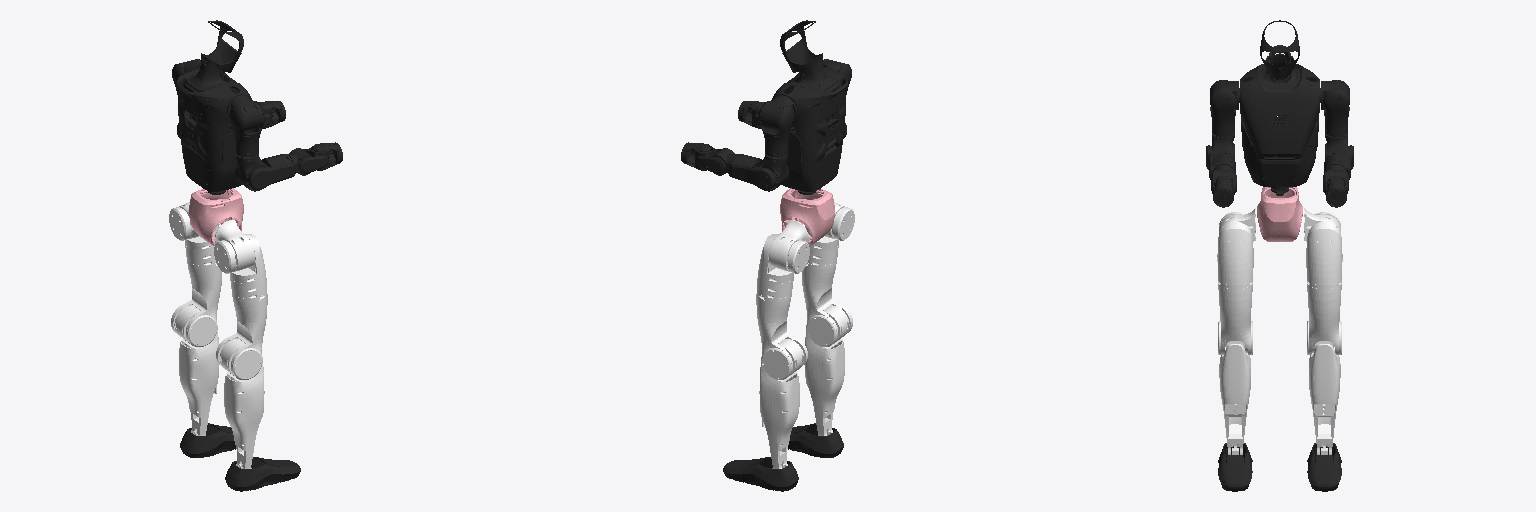
--- Render facts (derived) ---
The picture shows the robot from 3 angles, left to right: view 1: azimuth 30°, elevation 25°; view 2: azimuth 150°, elevation 25°; view 3: azimuth 270°, elevation 25°; orthographic projection.
Model O1 with 31 links and 30 joints (29 revolute, 1 fixed), rooted at pelvis, posed every joint at zero.
Links seen in each view (by area): view 1: torso_link, right_knee_link, left_knee_link, right_hip_yaw_link, left_hip_yaw_link, pelvis, right_ankle_roll_link, head_link, right_hip_pitch_link, left_ankle_roll_link, right_hip_roll_link, right_elbow_link (+6 smaller); view 2: torso_link, left_knee_link, right_knee_link, left_hip_yaw_link, right_hip_yaw_link, pelvis, left_ankle_roll_link, head_link, left_hip_pitch_link, right_ankle_roll_link, left_hip_roll_link, left_elbow_link (+6 smaller); view 3: torso_link, left_knee_link, right_knee_link, left_hip_yaw_link, right_hip_yaw_link, pelvis, left_hip_roll_link, right_hip_roll_link, left_ankle_roll_link, right_ankle_roll_link, head_link, left_shoulder_roll_link (+1 smaller).
Link boxes in pixels (left/top/right/bottom): torso_link: left=176, top=65, right=252, bottom=191; right_knee_link: left=220, top=339, right=264, bottom=468; left_knee_link: left=174, top=305, right=218, bottom=435; right_hip_yaw_link: left=216, top=292, right=267, bottom=379; left_hip_yaw_link: left=171, top=261, right=221, bottom=346; pelvis: left=189, top=188, right=243, bottom=245; right_ankle_roll_link: left=225, top=457, right=300, bottom=491; head_link: left=185, top=20, right=243, bottom=92; right_hip_pitch_link: left=214, top=220, right=254, bottom=273; left_ankle_roll_link: left=180, top=423, right=235, bottom=457; right_hip_roll_link: left=230, top=234, right=266, bottom=298; right_elbow_link: left=248, top=154, right=294, bottom=189; torso_link: left=771, top=65, right=847, bottom=191; left_knee_link: left=759, top=339, right=803, bottom=468; right_knee_link: left=805, top=305, right=849, bottom=435; left_hip_yaw_link: left=756, top=292, right=807, bottom=379; right_hip_yaw_link: left=802, top=261, right=852, bottom=346; pelvis: left=780, top=188, right=834, bottom=245; left_ankle_roll_link: left=723, top=457, right=798, bottom=491; head_link: left=780, top=20, right=838, bottom=91; left_hip_pitch_link: left=769, top=220, right=809, bottom=273; right_ankle_roll_link: left=788, top=423, right=843, bottom=457; left_hip_roll_link: left=757, top=234, right=793, bottom=298; left_elbow_link: left=729, top=154, right=775, bottom=189; torso_link: left=1240, top=64, right=1319, bottom=186; left_knee_link: left=1309, top=341, right=1340, bottom=454; right_knee_link: left=1219, top=341, right=1250, bottom=454; left_hip_yaw_link: left=1307, top=281, right=1341, bottom=354; right_hip_yaw_link: left=1218, top=281, right=1252, bottom=354; pelvis: left=1257, top=187, right=1302, bottom=241; left_hip_roll_link: left=1306, top=222, right=1342, bottom=284; right_hip_roll_link: left=1217, top=222, right=1253, bottom=284; left_ankle_roll_link: left=1307, top=443, right=1341, bottom=491; right_ankle_roll_link: left=1218, top=443, right=1252, bottom=491; head_link: left=1260, top=20, right=1299, bottom=82; left_shoulder_roll_link: left=1323, top=80, right=1349, bottom=136.
Size in the robot's own frame: 0.3943 by 0.4005 by 1.32 metres.
31 mesh visuals loaded from 31 distinct referenced files (31 binary STL).

The robot description file, URDF, robot "O1":
<?xml version="1.0" encoding="utf-8"?>
<!-- This URDF was automatically created by SolidWorks to URDF Exporter! Originally created by Stephen Brawner ([email redacted]) 
     Commit Version: 1.6.0-4-g7f85cfe  Build Version: 1.6.7995.38578
     For more information, please see http://wiki.ros.org/sw_urdf_exporter -->
<robot
  name="O1">
  
   <mujoco>
    <compiler meshdir="./meshes" balanceinertia="true"  discardvisual="false"/>
  </mujoco>
<!-- ~/.mujoco/mujoco210/bin/compile  v1.urdf v1.xml -->
<!-- <link name="world"></link>
  <joint name="floating_base_joint" type="floating">
    <parent link="world"/>
    <child link="pelvis"/>
  </joint> -->

  <!-- pelvis -->
 <link
    name="pelvis">
    <inertial>
      <origin
        xyz="-0.00001599  -0.00036044 0.02683613"
        rpy="0 0 0" />
      <mass
        value="3.68" />
      <inertia
        ixx="0.01157851"
        ixy="-0.00000511"
        ixz="-0.00000380"
        iyy="0.00849704"
        iyz="0.00004674"
        izz="0.00729059" />
    </inertial>
    <visual>
      <origin
        xyz="0 0 0"
        rpy="0 0 0" />
      <geometry>
        <mesh
          filename="./meshes/pelvis_link.STL" />
      </geometry>
      <material
        name="">
        <color
          rgba="3 0.7529 0.7961 1" />
      </material>
    </visual>
    <collision>
      <origin
        xyz="0 0 0"
        rpy="0 0 0" />
      <geometry>
        <mesh
          filename="./meshes/pelvis_link.STL" />
      </geometry>
    </collision>
  </link>

<!-- left leg -->
 <link
    name="left_hip_pitch_link">
    <inertial>
      <origin
        xyz="-0.00600842 0.05098829 -0.02591919"
        rpy="0 0 0" />
      <mass
        value="1.38" />
      <inertia
        ixx="0.00173824"
        ixy="0.00002267"
        ixz="-0.00001402"
        iyy="0.00142228"
        iyz="-0.00014722"
        izz="0.00139086" />
    </inertial>
    <visual>
      <origin
        xyz="0 0 0"
        rpy="0 0 0" />
      <geometry>
        <mesh
          filename="./meshes/left_hip_pitch_link.STL" />
      </geometry>
      <material
        name="">
        <color
          rgba="1 1 1 1" />
      </material>
    </visual>
    <collision>
      <origin
        xyz="0 0 0"
        rpy="0 0 0" />
      <geometry>
        <mesh
          filename="./meshes/left_hip_pitch_link.STL" />
      </geometry>
    </collision>
  </link>
  <joint
    name="left_hip_pitch_joint"
    type="revolute">
    <origin
      xyz="0 0.06525 0"
      rpy="0 0 0" />
    <parent
      link="pelvis" />
    <child
      link="left_hip_pitch_link" />
    <axis
      xyz="0 1 0" />
    <limit
      lower="-2.63845125"
      upper="2.77206943"
      effort="88"
      velocity="30.05456971934" />
  </joint>
 <link
    name="left_hip_roll_link">
    <inertial>
      <origin
        xyz="0.02637647 0.00002176 -0.07847643"
        rpy="0 0 0" />
      <mass
        value="1.55653092" />
      <inertia
        ixx="0.00292860"
        ixy="0.00000033"
        ixz="0.00024683"
        iyy="0.00283358"
        iyz="0.00000743"
        izz="0.00170113" />
    </inertial>
    <visual>
      <origin
        xyz="0 0 0"
        rpy="0 0 0" />
      <geometry>
        <mesh
          filename="./meshes/left_hip_roll_link.STL" />
      </geometry>
      <material
        name="">
        <color
          rgba="1 1 1 1" />
      </material>
    </visual>
    <collision>
      <origin
        xyz="0 0 0"
        rpy="0 0 0" />
      <geometry>
        <mesh
          filename="./meshes/left_hip_roll_link.STL" />
      </geometry>
    </collision>
  </link>
  <joint
    name="left_hip_roll_joint"
    type="revolute">
    <origin
      xyz="0 0.05494 -0.028701"
      rpy="0 -0.066809 0" />
    <parent
      link="left_hip_pitch_link" />
    <child
      link="left_hip_roll_link" />
    <axis
      xyz="1 0 0" />
    <limit
      lower="-0.3"
      upper="2.89396741"
      effort="88"
      velocity="30.05456971934" />
  </joint>
  <link
    name="left_hip_yaw_link">
    <inertial>
      <origin
        xyz="-0.01190082 0.00519796 -0.09749077"
        rpy="0 0 0" />
      <mass
        value="0.68357228" />
      <inertia
        ixx="0.00446989"
        ixy="-0.00008504"
        ixz="0.00072745"
        iyy="0.00448501"
        iyz="-0.00031734"
        izz="0.00131788" />
    </inertial>
    <visual>
      <origin
        xyz="0 0 0"
        rpy="0 0 0" />
      <geometry>
        <mesh
          filename="./meshes/left_hip_yaw_link.STL" />
      </geometry>
      <material
        name="">
        <color
          rgba="1 1 1 1" />
      </material>
    </visual>
    <collision>
      <origin
        xyz="0 0 0"
        rpy="0 0 0" />
      <geometry>
        <mesh
          filename="./meshes/left_hip_yaw_link.STL" />
      </geometry>
    </collision>
  </link>
  <joint
    name="left_hip_yaw_joint"
    type="revolute">
    <origin
      xyz="0.023639 0 -0.11812"
      rpy="0 0 0" />
    <parent
      link="left_hip_roll_link" />
    <child
      link="left_hip_yaw_link" />
    <axis
      xyz="0 0 1" />
    <limit
      lower="-2.7925268"
      upper="2.7925268"
      effort="88"
      velocity="30.05456971934" />
  </joint>
  <link
    name="left_knee_link">
    <inertial>
      <origin
        xyz="0.01140738 0.00239698 -0.08461528"
        rpy="0 0 0" />
        <mass
        value="3.66174273" />
      <inertia
        ixx="0.03242620"
        ixy="-0.00010957"
        ixz="-0.00313455"
        iyy="0.03286848"
        iyz="0.00068319"
        izz="0.00334442" />
    </inertial>
    <visual>
      <origin
        xyz="0 0 0"
        rpy="0 0 0" />
      <geometry>
        <mesh
          filename="./meshes/left_knee_link.STL" />
      </geometry>
      <material
        name="">
        <color
          rgba="1 1 1 1" />
      </material>
    </visual>
    <collision>
      <origin
        xyz="0 0 0"
        rpy="0 0 0" />
      <geometry>
        <mesh
          filename="./meshes/left_knee_link.STL" />
      </geometry>
    </collision>
  </link>
  <joint
    name="left_knee_joint"
    type="revolute">
    <origin
      xyz="-0.044387 0 -0.19197"
      rpy="0 0.066809 0" />
    <parent
      link="left_hip_yaw_link" />
    <child
      link="left_knee_link" />
    <axis
      xyz="0 1 0" />
    <limit
      lower="-0.13895627"
      upper="2.7931969"
      effort="140"
      velocity="17.48819910498" />
  </joint>
  <link
    name="left_ankle_pitch_link">
    <inertial>
      <origin
        xyz="-0.00054559 0.00050204 -0.00344178"
        rpy="0 0 0" />
      <mass
        value="0.083335" />
      <inertia
        ixx="0.01"
        ixy="0"
        ixz="-0.00000090"
        iyy="0.01"
        iyz="0"
        izz="0.01" />
    </inertial>
    <visual>
      <origin
        xyz="0 0 0"
        rpy="0 0 0" />
      <geometry>
        <mesh
          filename="./meshes/left_ankle_pitch_link.STL" />
      </geometry>
      <material
        name="">
        <color
          rgba="1 1 1 1" />
      </material>
    </visual>
    <collision>
      <origin
        xyz="0 0 0"
        rpy="0 0 0" />
      <geometry>
        <mesh
          filename="./meshes/left_ankle_pitch_link.STL" />
      </geometry>
    </collision>
  </link>
  <joint
    name="left_ankle_pitch_joint"
    type="revolute">
    <origin
      xyz="0.012516 0 -0.33638"
      rpy="0 0 0" />
    <parent
      link="left_knee_link" />
    <child
      link="left_ankle_pitch_link" />
    <axis
      xyz="0 1 0" />
    <limit
      lower="-0.99261433"
      upper="0.39993928"
      effort="54"
      velocity="26.17993877991" />
  </joint>
  <link
    name="left_ankle_roll_link">
    <inertial>
      <origin
        xyz="0.00775718 0.00006323 -0.01342855"
        rpy="0 0 0" />
           <mass
        value="0.67969443" />
      <inertia
        ixx="0.01"
        ixy="-0.00000001"
        ixz="-0.00009342"
        iyy="0.01"
        iyz="-0.00000008"
        izz="0.01" />
    </inertial>
    <visual>
      <origin
        xyz="0 0 0"
        rpy="0 0 0" />
      <geometry>
        <mesh
          filename="./meshes/left_ankle_roll_link.STL" />
      </geometry>
      <material
        name="">
        <color rgba="0.2 0.2 0.2 1" />
      </material>
    </visual>
    <!-- <collision>
      <origin
        xyz="0 0 0"
        rpy="0 0 0" />
      <geometry>
        <mesh
          filename="./meshes/left_ankle_roll_link.STL" />
      </geometry>
    </collision> -->
    <collision>
      <origin xyz="-0.075 0.035 -0.025" rpy="0 0 0"/>
      <geometry>
        <sphere radius="0.005"/>
      </geometry>
    </collision>
    <collision>
      <origin xyz="-0.075 -0.035 -0.025" rpy="0 0 0"/>
      <geometry>
        <sphere radius="0.005"/>
      </geometry>
    </collision>
    <collision>
      <origin xyz="0.13 0.04 -0.025" rpy="0 0 0"/>
      <geometry>
        <sphere radius="0.005"/>
      </geometry>
    </collision>
    <collision>
      <origin xyz="0.13 -0.04 -0.025" rpy="0 0 0"/>
      <geometry>
        <sphere radius="0.005"/>
      </geometry>
    </collision>
  </link>
  <joint
    name="left_ankle_roll_joint"
    type="revolute">
    <origin
      xyz="0.0361 0.00050204 -0.01"
      rpy="0 0 0" />
    <parent
      link="left_ankle_pitch_link" />
    <child
      link="left_ankle_roll_link" />
    <axis
      xyz="1 0 0" />
    <limit
      lower="-0.24198415"
      upper="0.24198415"
      effort="54"
      velocity="26.17993877991" />
  </joint>



<!-- leg -->


 <link
    name="right_hip_pitch_link">
    <inertial>
      <origin
        xyz="-0.00600865 -0.05098805 -0.02591902"
        rpy="0 0 0" />
      <mass
        value="1.38353491" />
      <inertia
        ixx="0.00173819"
        ixy="-0.00002264"
        ixz="-0.00001401"
        iyy="0.00142223"
        iyz="0.00014720"
        izz="0.00139081" />
    </inertial>
    <visual>
      <origin
        xyz="0 0 0"
        rpy="0 0 0" />
      <geometry>
        <mesh
          filename="./meshes/right_hip_pitch_link.STL" />
      </geometry>
      <material
        name="">
        <color
          rgba="1 1 1 1" />
      </material>
    </visual>
    <collision>
      <origin
        xyz="0 0 0"
        rpy="0 0 0" />
      <geometry>
        <mesh
          filename="./meshes/right_hip_pitch_link.STL" />
      </geometry>
    </collision>
  </link>
  <joint
    name="right_hip_pitch_joint"
    type="revolute">
    <origin
      xyz="0 -0.06525 0"
      rpy="0 0 0" />
    <parent
      link="pelvis" />
    <child
      link="right_hip_pitch_link" />
    <axis
      xyz="0 1 0" />
    <limit
      lower="-2.63845125"
      upper="2.77206943"
      effort="88"
      velocity="30.05456971934" />
  </joint>

 <link
    name="right_hip_roll_link">
    <inertial>
      <origin
        xyz="0.02637618 -0.00002235 -0.07847854"
        rpy="0 0 0" />
        <mass
        value="1.55649690" />
      <inertia
        ixx="0.00292821"
        ixy="-0.00000025"
        ixz="0.00024679"
        iyy="0.00283318"
        iyz="-0.00000756"
        izz="0.00170113" />
    </inertial>
    <visual>
      <origin
        xyz="0 0 0"
        rpy="0 0 0" />
      <geometry>
        <mesh
          filename="./meshes/right_hip_roll_link.STL" />
      </geometry>
      <material
        name="">
        <color
          rgba="1 1 1 1" />
      </material>
    </visual>
    <collision>
      <origin
        xyz="0 0 0"
        rpy="0 0 0" />
      <geometry>
        <mesh
          filename="./meshes/right_hip_roll_link.STL" />
      </geometry>
    </collision>
  </link>
  <joint
    name="right_hip_roll_joint"
    type="revolute">
    <origin
      xyz="0 -0.05494 -0.028701"
      rpy="0 -0.066809 0" />
    <parent
      link="right_hip_pitch_link" />
    <child
      link="right_hip_roll_link" />
    <axis
      xyz="1 0 0" />
    <limit
      lower="-2.89396741"
      upper="0.3"
      effort="88"
      velocity="30.05456971934" />
  </joint>

<link
    name="right_hip_yaw_link">
    <inertial>
      <origin
        xyz="-0.01189927 -0.00519873 -0.09749555"
        rpy="0 0 0" />
            <mass
        value="0.68354335" />
      <inertia
        ixx="0.00447037"
        ixy="0.00008487"
        ixz="0.00072736"
        iyy="0.00448507"
        iyz="0.00031722"
        izz="0.00131805" />
    </inertial>
    <visual>
      <origin
        xyz="0 0 0"
        rpy="0 0 0" />
      <geometry>
        <mesh
          filename="./meshes/right_hip_yaw_link.STL" />
      </geometry>
      <material
        name="">
        <color
          rgba="1 1 1 1" />
      </material>
    </visual>
    <collision>
      <origin
        xyz="0 0 0"
        rpy="0 0 0" />
      <geometry>
        <mesh
          filename="./meshes/right_hip_yaw_link.STL" />
      </geometry>
    </collision>
  </link>
  <joint
    name="right_hip_yaw_joint"
    type="revolute">
    <origin
      xyz="0.023639 0 -0.11812"
      rpy="0 0 0" />
    <parent
      link="right_hip_roll_link" />
    <child
      link="right_hip_yaw_link" />
    <axis
      xyz="0 0 1" />
    <limit
      lower="-2.7925268"
      upper="2.7925268"
      effort="88"
      velocity="30.05456971934" />
  </joint>
  <link
    name="right_knee_link">
    <inertial>
      <origin
        xyz="0.01140751 -0.00239511 -0.08461610"
        rpy="0 0 0" />
      <mass
        value="3.66178340" />
      <inertia
        ixx="0.03242632"
        ixy="0.00010971"
        ixz="-0.00313462"
        iyy="0.03286859"
        iyz="-0.00068371"
        izz="0.00334453" />
    </inertial>
    <visual>
      <origin
        xyz="0 0 0"
        rpy="0 0 0" />
      <geometry>
        <mesh
          filename="./meshes/right_knee_link.STL" />
      </geometry>
      <material
        name="">
        <color
          rgba="1 1 1 1" />
      </material>
    </visual>
    <collision>
      <origin
        xyz="0 0 0"
        rpy="0 0 0" />
      <geometry>
        <mesh
          filename="./meshes/right_knee_link.STL" />
      </geometry>
    </collision>
  </link>
  <joint
    name="right_knee_joint"
    type="revolute">
    <origin
      xyz="-0.044387 0 -0.19197"
      rpy="0 0.066809 0" />
    <parent
      link="right_hip_yaw_link" />
    <child
      link="right_knee_link" />
    <axis
      xyz="0 1 0" />
    <limit
      lower="-0.13895627"
      upper="2.7931969"
      effort="140"
      velocity="17.48819910498" />
  </joint>
  <link
    name="right_ankle_pitch_link">
    <inertial>
      <origin
        xyz="-0.00054559 -0.00050204 -0.00344178"
        rpy="0 0 0" />
       <mass
        value="0.083335" />
      <inertia
        ixx="0.01"
        ixy="0"
        ixz="-0.00000090"
        iyy="0.01"
        iyz="0"
        izz="0.01" />
    </inertial>
    <visual>
      <origin
        xyz="0 0 0"
        rpy="0 0 0" />
      <geometry>
        <mesh
          filename="./meshes/right_ankle_pitch_link.STL" />
      </geometry>
      <material
        name="">
        <color
          rgba="1 1 1 1" />
      </material>
    </visual>
    <collision>
      <origin
        xyz="0 0 0"
        rpy="0 0 0" />
      <geometry>
        <mesh
          filename="./meshes/right_ankle_pitch_link.STL" />
      </geometry>
    </collision>
  </link>
  <joint
    name="right_ankle_pitch_joint"
    type="revolute">
    <origin
      xyz="0.012516 0 -0.33638"
      rpy="0 0 0" />
    <parent
      link="right_knee_link" />
    <child
      link="right_ankle_pitch_link" />
    <axis
      xyz="0 1 0" />
    <limit
      lower="-0.99261433"
      upper="0.39993928"
      effort="54"
      velocity="26.17993877991" />
  </joint>
  <link
    name="right_ankle_roll_link">
    <inertial>
      <origin
        xyz="0.00775238 -0.00004677 -0.01342861"
        rpy="0 0 0" />
      <mass
        value="0.67971021" />
      <inertia
        ixx="0.01"
        ixy="0.00000019"
        ixz="-0.00009343"
        iyy="0.01"
        iyz="0"
        izz="0.01" />
    </inertial>
    <visual>
      <origin
        xyz="0 0 0"
        rpy="0 0 0" />
      <geometry>
        <mesh
          filename="./meshes/right_ankle_roll_link.STL" />
      </geometry>
      <material
        name="">
        <color rgba="0.2 0.2 0.2 1" />
      </material>
    </visual>
    <!-- <collision>
      <origin
        xyz="0 0 0"
        rpy="0 0 0" />
      <geometry>
        <mesh
          filename="./meshes/right_ankle_roll_link.STL" />
      </geometry>
    </collision> -->
  <collision>
      <origin xyz="-0.075 0.035 -0.025" rpy="0 0 0"/>
      <geometry>
        <sphere radius="0.005"/>
      </geometry>
    </collision>
    <collision>
      <origin xyz="-0.075 -0.035 -0.025" rpy="0 0 0"/>
      <geometry>
        <sphere radius="0.005"/>
      </geometry>
    </collision>
    <collision>
      <origin xyz="0.13 0.04 -0.025" rpy="0 0 0"/>
      <geometry>
        <sphere radius="0.005"/>
      </geometry>
    </collision>
    <collision>
      <origin xyz="0.13 -0.04 -0.025" rpy="0 0 0"/>
      <geometry>
        <sphere radius="0.005"/>
      </geometry>
    </collision>
  </link>
  <joint
    name="right_ankle_roll_joint"
    type="revolute">
    <origin
      xyz="0.0361 -0.00050204 -0.01"
      rpy="0 0 0" />
    <parent
      link="right_ankle_pitch_link" />
    <child
      link="right_ankle_roll_link" />
    <axis
      xyz="1 0 0" />
    <limit
      lower="-0.24198415"
      upper="0.24198415"
      effort="54"
      velocity="26.17993877991" />
  </joint>

<!-- torso -->
 <link
    name="waist_yaw_link">
    <inertial>
      <origin
        xyz="0.00530711 0.00000475 0.02162691"
        rpy="0 0 0" />
      <mass
        value="0.14251209" />
      <inertia
        ixx="0.01"
        ixy="-0.00000003"
        ixz="0.00000498"
        iyy="0.01"
        iyz="0"
        izz="0.01" />
    </inertial>
    <visual>
      <origin
        xyz="0 0 0"
        rpy="0 0 0" />
      <geometry>
        <mesh
          filename="./meshes/waist_yaw_link.STL" />
      </geometry>
      <material
        name="">
        <color rgba="0.2 0.2 0.2 1" />
      </material>
    </visual>
    <!-- <collision>
      <origin
        xyz="0 0 0"
        rpy="0 0 0" />
      <geometry>
        <mesh
          filename="./meshes/waist_yaw_link.STL" />
      </geometry>
    </collision> -->
  </link>
  <joint
    name="waist_yaw_joint"
    type="revolute">
    <origin
      xyz="0 0 0.104"
      rpy="0 0 0" />
    <parent
      link="pelvis" />
    <child
      link="waist_yaw_link" />
    <axis
      xyz="0 0 1" />
    <limit
      lower="-2.6179938779914944"
      upper="2.6179938779914944"
      effort="88"
      velocity="30.05456971934" />
  </joint>


  


 <link name="waist_roll_link">
     <inertial>
       <origin xyz="0 0 0" rpy="0 0 0" />
       <mass value="0.054" />
       <inertia ixx="0.01" ixy="0" ixz="-0.00000004" iyy="0.01" iyz="0" izz="0.01" />
     </inertial>
     <visual>
       <origin xyz="0 0 0" rpy="0 0 0" />
       <geometry>
         <mesh filename="./meshes/waist_roll_link.STL" />
       </geometry>
       <material name="">
         <color rgba="0.2 0.2 0.2 1" />
       </material>
     </visual>
     <!-- <collision>
       <origin xyz="0 0 0" rpy="0 0 0" />
       <geometry>
          <mesh filename="./meshes/waist_roll_link.STL" />
       </geometry>
     </collision> -->
   </link>  

 <joint
    name="waist_roll_joint"
    type="revolute">
    <origin
      xyz="-0.0017722 0 0.047"
      rpy="0 0 0" />
    <parent
      link="waist_yaw_link" />
    <child
      link="waist_roll_link" />
    <axis
      xyz="1 0 0" />
    <limit
     lower="-0.5201081170943103"
      upper="0.5201081170943103"
      effort="54"
      velocity="26.17993877991" />
  </joint>


 <link
    name="torso_link">
    <inertial>
      <origin
        xyz="-0.01532388 0.00015102 0.13479563"
        rpy="0 0 0" />
      <mass
        value="7.45" />
      <inertia
        ixx="0.07109966"
        ixy="0.000003895"
        ixz="0.00060033"
        iyy="0.05644602"
        iyz="0.00015737"
        izz="0.03559097" />
    </inertial>
    <visual>
      <origin
        xyz="0 0 0"
        rpy="0 0 0" />
      <geometry>
        <mesh
          filename="./meshes/torso_link.STL" />
      </geometry>
      <material
        name="">
        <color rgba="0.2 0.2 0.2 1" />
      </material>
    </visual>
    <collision>
      <origin
        xyz="0 0 0"
        rpy="0 0 0" />
      <geometry>
        <mesh
          filename="./meshes/torso_link.STL" />
      </geometry>
    </collision>
  </link>
  <joint
    name="waist_pitch_joint"
    type="revolute">
    <origin
      xyz="0 0 0"
      rpy="0 0 0" />
    <parent
      link="waist_roll_link" />
    <child
      link="torso_link" />
    <axis
      xyz="0 1 0" />
    <limit
      lower="-0.5201081170943103"
      upper="0.5201081170943103"
      effort="54"
      velocity="26.17993877991" />
  </joint>




<link
    name="left_shoulder_pitch_link">
    <inertial>
      <origin
        xyz="0.00562426 0.04004362 -0.00401964"
        rpy="0 0 0" />
      <mass
        value="0.68647980" />
      <inertia
        ixx="0.01"
        ixy="0.00001446"
        ixz="0.00000273"
        iyy="0.01"
        iyz="-0.00001391"
        izz="0.01"/>
    </inertial>
    <visual>
      <origin
        xyz="0 0 0"
        rpy="0 0 0" />
      <geometry>
        <mesh
          filename="./meshes/left_shoulder_pitch_link.STL" />
      </geometry>
      <material
        name="">
        <color rgba="0.2 0.2 0.2 1" />
      </material>
    </visual>
     <collision>
     <origin
        xyz="0 0 0"
        rpy="0 0 0" />
      <geometry>
        <mesh
          filename="./meshes/left_shoulder_pitch_link.STL" />
      </geometry>
    </collision>
  </link>
  <joint
    name="left_shoulder_pitch_joint"
    type="revolute">
    <origin
     xyz="0.0076153 0.1088 0.2376523"
      rpy="0 0 0" />
    <parent
      link="torso_link" />
    <child
      link="left_shoulder_pitch_link" />
    <axis
      xyz="0 1 0" />
    <limit
      lower="-3.40339"
      upper="2.1816615649929116"
      effort="27"
      velocity="26.17993877991" />
  </joint>
  <link
    name="left_shoulder_roll_link">
    <inertial>
      <origin
        xyz="-0.00090881 0.00018475 -0.06656433"
        rpy="0 0 0" />
      <mass
        value="0.66210236" />
      <inertia
        ixx="0.01"
        ixy="-0.00000225"
        ixz="-0.00002828"
        iyy="0.01"
        iyz="0.00000458"
        izz="0.01" />
    </inertial>
    <visual>
      <origin
        xyz="0 0 0"
        rpy="0 0 0" />
      <geometry>
        <mesh
          filename="./meshes/left_shoulder_roll_link.STL" />
      </geometry>
      <material
        name="">
        <color rgba="0.2 0.2 0.2 1" />
      </material>
    </visual>
    <collision>
    <origin
        xyz="0 0 0"
        rpy="0 0 0" />
      <geometry>
        <mesh
          filename="./meshes/left_shoulder_roll_link.STL" />
      </geometry>
    </collision>
  </link>
  <joint
    name="left_shoulder_roll_joint"
    type="revolute">
    <origin
      xyz="0 0.044299 -0.005"
      rpy="0 0 0" />
    <parent
      link="left_shoulder_pitch_link" />
    <child
      link="left_shoulder_roll_link" />
    <axis
      xyz="1 0 0" />
    <limit
      lower="-1.5882496193148399"
      upper="2.705260340591211"
      effort="27"
      velocity="26.17993877991" />
  </joint>
  <link
    name="left_shoulder_yaw_link">
    <inertial>
      <origin
        xyz="0.01350876 0.00458835 -0.06069925"
        rpy="0 0 0" />
      <mass
        value="0.70907287" />
      <inertia
        ixx="0.01"
        ixy="-0.00000369"
        ixz="-0.00006218"
        iyy="0.01"
        iyz="-0.00001652"
        izz="0.01" />
    </inertial>
    <visual>
      <origin
        xyz="0 0 0"
        rpy="0 0 0" />
      <geometry>
        <mesh
          filename="./meshes/left_shoulder_yaw_link.STL" />
      </geometry>
      <material
        name="">
       <color rgba="0.2 0.2 0.2 1" />
      </material>
    </visual>
    <collision>
     <origin
        xyz="0 0 0"
        rpy="0 0 0" />
      <geometry>
        <mesh
          filename="./meshes/left_shoulder_yaw_link.STL" />
      </geometry>
    </collision>
  </link>
  <joint
    name="left_shoulder_yaw_joint"
    type="revolute">
    <origin
    xyz="0 0 -0.105584652258973"
      rpy="0 0 0" />
    <parent
      link="left_shoulder_roll_link" />
    <child
      link="left_shoulder_yaw_link" />
    <axis
      xyz="0 0 1" />
    <limit
      lower="-2.9321"
      upper="2.4609"
      effort="27"
      velocity="26.17993877991" />
  </joint>
  <link
    name="left_elbow_link">
    <inertial>
      <origin
        xyz="0.07538585 0.00456624 -0.00029857"
        rpy="0 0 0" />
      <mass
        value="0.70783525" />
      <inertia
        ixx="0.01"
        ixy="-0.00015453"
        ixz="0.00000224"
        iyy="0.01"
        iyz="0.00000099"
        izz="0.01" />
    </inertial>
    <visual>
      <origin
        xyz="0 0 0"
        rpy="0 0 0" />
      <geometry>
        <mesh
          filename="./meshes/left_elbow_link.STL" />
      </geometry>
      <material
        name="">
        <color rgba="0.2 0.2 0.2 1" />
      </material>
    </visual>
    <collision>
      <origin
        xyz="0 0 0"
        rpy="0 0 0" />
      <geometry>
        <mesh
          filename="./meshes/left_elbow_link.STL" />
      </geometry>
    </collision>
  </link>
  <joint
    name="left_elbow_joint"
    type="revolute">
    <origin
     xyz="0.0149287131009919 0 -0.0671946000854465"
      rpy="0 0 0" />
    <parent
      link="left_shoulder_yaw_link" />
    <child
      link="left_elbow_link" />
    <axis
      xyz="0 1 0" />
    <limit
      lower="-0.53"
      upper="2.0943951023931953"
      effort="27"
      velocity="26.17993877991" />
  </joint>

  <link
    name="left_wrist_roll_link">
    <inertial>
      <origin
        xyz="0.03581948 0.00209082 -0.00004229"
        rpy="0 0 0" />
      <mass
        value="0.34613195" />
      <inertia
        ixx="0.01"
        ixy="0.00000573"
        ixz="0"
        iyy="0.01"
        iyz="0.00000014"
        izz="0.01" />
    </inertial>
    <visual>
      <origin
        xyz="0 0 0"
        rpy="0 0 0" />
      <geometry>
        <mesh
          filename="./meshes/left_wrist_roll_link.STL" />
      </geometry>
      <material
        name="">
        <color rgba="0.2 0.2 0.2 1" />
      </material>
    </visual>
      <collision>
    <origin
        xyz="0 0 0"
        rpy="0 0 0" />
      <geometry>
        <mesh
          filename="./meshes/left_wrist_roll_link.STL" />
      </geometry>
    </collision>
  </link>
  <joint
    name="left_wrist_roll_joint"
    type="revolute">
    <origin
      xyz="0.110649509506429 -0.000743414724557998 0"
      rpy="0 0 0" />
    <parent
      link="left_elbow_link" />
    <child
      link="left_wrist_roll_link" />
    <axis
      xyz="1 0 0" />
    <limit
      lower="-2.1642082724729685"
      upper="2.1642082724729685"
      effort="27"
      velocity="26.17993877991" />
  </joint>
  <link
    name="left_wrist_pitch_link">
    <inertial>
      <origin
        xyz="0.04942738 0.00010190 -0.00213864"
        rpy="0 0 0" />
      <mass
        value="0.35832898" />
      <inertia
        ixx="0.01"
        ixy="-0.00000229"
        ixz="-0.00000574"
        iyy="0.01"
        iyz="0.00000027"
        izz="0.01" />
    </inertial>
    <visual>
      <origin
        xyz="0 0 0"
        rpy="0 0 0" />
      <geometry>
        <mesh
          filename="./meshes/left_wrist_pitch_link.STL" />
      </geometry>
      <material
        name="">
        <color rgba="0.2 0.2 0.2 1" />
      </material>
    </visual>
      <collision>
   <origin
        xyz="0 0 0"
        rpy="0 0 0" />
      <geometry>
        <mesh
          filename="./meshes/left_wrist_pitch_link.STL" />
      </geometry>
    </collision>
  </link>
  <joint
    name="left_wrist_pitch_joint"
    type="revolute">
    <origin
       xyz="0.0407104312092667 0 0"
      rpy="0 0 0" />
    <parent
      link="left_wrist_roll_link" />
    <child
      link="left_wrist_pitch_link" />
    <axis
      xyz="0 1 0" />
    <limit
      lower="-1.5707963267948966"
      upper="1.5707963267948966"
      effort="6.5"
      velocity="20.94395102393" />
  </joint>
  <link
    name="left_wrist_yaw_link">
    <inertial>
      <origin
        xyz="0.02994231 -0.00053182 -0.00072067"
        rpy="0 0 0" />
      <mass
        value="0.11264459" />
      <inertia
        ixx="0.01"
        ixy="-0.00000052"
        ixz="0.00000864"
        iyy="0.01"
        iyz="-0.00000017"
        izz="0.01" />
    </inertial>
    <visual>
      <origin
        xyz="0 0 0"
        rpy="0 0 0" />
      <geometry>
        <mesh
          filename="./meshes/left_wrist_yaw_link.STL" />
      </geometry>
      <material
        name="">
        <color rgba="0.2 0.2 0.2 1" />
      </material>
    </visual>
  <collision>
    <origin
        xyz="0 0 0"
        rpy="0 0 0" />
      <geometry>
        <mesh
          filename="./meshes/left_wrist_yaw_link.STL" />
      </geometry>
    </collision>
  </link>
  <joint
    name="left_wrist_yaw_joint"
    type="revolute">
    <origin
      xyz="0.0570718974336895 0 0"
      rpy="0 0 0" />
    <parent
      link="left_wrist_pitch_link" />
    <child
      link="left_wrist_yaw_link" />
    <axis
      xyz="0 0 1" />
    <limit
      lower="-1.5707963267948966"
      upper="1.5707963267948966"
      effort="6.5"
      velocity="20.94395102393" />
  </joint>




<!-- arm -->

 <link
    name="right_shoulder_pitch_link">
    <inertial>
      <origin
        xyz="0.00562426 -0.04004362 -0.00401964"
        rpy="0 0 0" />
      <mass
        value="0.68647980" />
      <inertia
        ixx="0.01"
        ixy="-0.00001446"
        ixz="0.00000273"
        iyy="0.01"
        iyz="0.00001391"
        izz="0.01"/>
    </inertial>
    <visual>
      <origin
        xyz="0 0 0"
        rpy="0 0 0" />
      <geometry>
        <mesh
          filename="./meshes/right_shoulder_pitch_link.STL" />
      </geometry>
      <material
        name="">
        <color rgba="0.2 0.2 0.2 1" />
      </material>
    </visual>
   <collision>
     <origin
        xyz="0 0 0"
        rpy="0 0 0" />
      <geometry>
        <mesh
          filename="./meshes/right_shoulder_pitch_link.STL" />
      </geometry>
    </collision>
  </link>
  <joint
    name="right_shoulder_pitch_joint"
    type="revolute">
    <origin
     xyz="0.0076153 -0.1088 0.2376523"
      rpy="0 0 0" />
    <parent
      link="torso_link" />
    <child
      link="right_shoulder_pitch_link" />
    <axis
      xyz="0 1 0" />
    <limit
      lower="-3.40339"
      upper="2.1816615649929116"
      effort="27"
      velocity="26.17993877991" />
  </joint>
 <link
    name="right_shoulder_roll_link">
    <inertial>
      <origin
        xyz="-0.00090881 -0.00018475 -0.06656433"
        rpy="0 0 0" />
       <mass
        value="0.66210236" />
      <inertia
        ixx="0.01"
        ixy="0.00000225"
        ixz="-0.00002828"
        iyy="0.01"
        iyz="-0.00000458"
        izz="0.01" />
    </inertial>
    <visual>
      <origin
        xyz="0 0 0"
        rpy="0 0 0" />
      <geometry>
        <mesh
          filename="./meshes/right_shoulder_roll_link.STL" />
      </geometry>
      <material
        name="">
        <color rgba="0.2 0.2 0.2 1" />
      </material>
    </visual>
   <collision>
    <origin
        xyz="0 0 0"
        rpy="0 0 0" />
      <geometry>
        <mesh
          filename="./meshes/right_shoulder_roll_link.STL" />
      </geometry>
    </collision>
  </link>
  <joint
    name="right_shoulder_roll_joint"
    type="revolute">
    <origin
     xyz="0 -0.044299 -0.005"
      rpy="0 0 0" />
    <parent
      link="right_shoulder_pitch_link" />
    <child
      link="right_shoulder_roll_link" />
    <axis
      xyz="1 0 0" />
    <limit
      lower="-2.705260340591211"
      upper="1.5882496193148399"
      effort="27"
      velocity="26.17993877991" />
  </joint>
 <link
    name="right_shoulder_yaw_link">
    <inertial>
      <origin
        xyz="0.01350876 -0.00458835 -0.06069925"
        rpy="0 0 0" />
      <mass
        value="0.70907287" />
      <inertia
        ixx="0.01"
        ixy="0.00000369"
        ixz="-0.00006218"
        iyy="0.01"
        iyz="0.00001652"
        izz="0.01" />
    </inertial>
    <visual>
      <origin
        xyz="0 0 0"
        rpy="0 0 0" />
      <geometry>
        <mesh
          filename="./meshes/right_shoulder_yaw_link.STL" />
      </geometry>
      <material
        name="">
        <color rgba="0.2 0.2 0.2 1" />
      </material>
    </visual>
    <collision>
     <origin
        xyz="0 0 0"
        rpy="0 0 0" />
      <geometry>
        <mesh
          filename="./meshes/right_shoulder_yaw_link.STL" />
      </geometry>
    </collision>
  </link>
  <joint
    name="right_shoulder_yaw_joint"
    type="revolute">
    <origin
     xyz="0 0 -0.105584652258973"
      rpy="0 0 0" />
    <parent
      link="right_shoulder_roll_link" />
    <child
      link="right_shoulder_yaw_link" />
    <axis
      xyz="0 0 1" />
    <limit
      lower="-2.4609"
      upper="2.9321"
      effort="27"
      velocity="26.17993877991" />
  </joint>
<link
    name="right_elbow_link">
    <inertial>
      <origin
        xyz="0.07538585 -0.00456624 -0.00029857"
        rpy="0 0 0" />
      <mass
        value="0.70783525" />
      <inertia
        ixx="0.01"
        ixy="0.00015453"
        ixz="0.00000224"
        iyy="0.01"
        iyz="-0.00000099"
        izz="0.01" />
    </inertial>
    <visual>
      <origin
        xyz="0 0 0"
        rpy="0 0 0" />
      <geometry>
        <mesh
          filename="./meshes/right_elbow_link.STL" />
      </geometry>
      <material
        name="">
        <color rgba="0.2 0.2 0.2 1" />
      </material>
    </visual>
    <collision>
    <origin
        xyz="0 0 0"
        rpy="0 0 0" />
      <geometry>
        <mesh
          filename="./meshes/right_elbow_link.STL" />
      </geometry>
    </collision>
  </link>
  <joint
    name="right_elbow_joint"
    type="revolute">
    <origin
     xyz="0.0149287131009919 0 -0.0671946000854465"
      rpy="0 0 0" />
    <parent
      link="right_shoulder_yaw_link" />
    <child
      link="right_elbow_link" />
    <axis
      xyz="0 1 0" />
    <limit
      lower="-0.53"
      upper="2.0943951023931953"
      effort="27"
      velocity="26.17993877991" />
  </joint>
 <link
    name="right_wrist_roll_link">
    <inertial>
      <origin
        xyz="0.03581948 -0.00209082 -0.00004229"
        rpy="0 0 0" />
      <mass
        value="0.34613195" />
      <inertia
        ixx="0.01"
        ixy="-0.00000573"
        ixz="0"
        iyy="0.01"
        iyz="-0.00000014"
        izz="0.01" />
    </inertial>
    <visual>
      <origin
        xyz="0 0 0"
        rpy="0 0 0" />
      <geometry>
        <mesh
          filename="./meshes/right_wrist_roll_link.STL" />
      </geometry>
      <material
        name="">
        <color rgba="0.2 0.2 0.2 1" />
      </material>
    </visual>
    <collision>
    <origin
        xyz="0 0 0"
        rpy="0 0 0" />
      <geometry>
        <mesh
          filename="./meshes/right_wrist_roll_link.STL" />
      </geometry>
    </collision>
  </link>
  <joint
    name="right_wrist_roll_joint"
    type="revolute">
    <origin
      xyz="0.110649509506429 0.000743414724557998 0"
      rpy="0 0 0" />
    <parent
      link="right_elbow_link" />
    <child
      link="right_wrist_roll_link" />
    <axis
      xyz="1 0 0" />
    <limit
      lower="-2.1642082724729685"
      upper="2.1642082724729685"
      effort="27"
      velocity="26.17993877991" />
  </joint>

<link
    name="right_wrist_pitch_link">
    <inertial>
      <origin
        xyz="0.04942738 -0.00010190 -0.00213864"
        rpy="0 0 0" />
      <mass
        value="0.35832898" />
      <inertia
        ixx="0.01"
        ixy="0.00000229"
        ixz="-0.00000574"
        iyy="0.01"
        iyz="-0.00000027"
        izz="0.01" />
    </inertial>
    <visual>
      <origin
        xyz="0 0 0"
        rpy="0 0 0" />
      <geometry>
        <mesh
          filename="./meshes/right_wrist_pitch_link.STL" />
      </geometry>
      <material
        name="">
        <color rgba="0.2 0.2 0.2 1" />
      </material>
    </visual>
    <collision>
      <origin
        xyz="0 0 0"
        rpy="0 0 0" />
      <geometry>
        <mesh
          filename="./meshes/right_wrist_pitch_link.STL" />
      </geometry>
    </collision>
  </link>
  <joint
    name="right_wrist_pitch_joint"
    type="revolute">
    <origin
      xyz="0.0407104312092667 0 0"
      rpy="0 0 0" />
    <parent
      link="right_wrist_roll_link" />
    <child
      link="right_wrist_pitch_link" />
    <axis
      xyz="0 1 0" />
    <limit
      lower="-1.5707963267948966"
      upper="1.5707963267948966"
      effort="6.5"
      velocity="20.94395102393"  />
  </joint>
  <link
    name="right_wrist_yaw_link">
    <inertial>
      <origin
        xyz="0.02994231 0.00053182 -0.00072067"
        rpy="0 0 0" />
      <mass
        value="0.11264459" />
      <inertia
        ixx="0.01"
        ixy="0.00000052"
        ixz="0.00000864"
        iyy="0.01"
        iyz="-0.00000017"
        izz="0.01" />
    </inertial>
    <visual>
      <origin
        xyz="0 0 0"
        rpy="0 0 0" />
      <geometry>
        <mesh
          filename="./meshes/right_wrist_yaw_link.STL" />
      </geometry>
      <material
        name="">
        <color rgba="0.2 0.2 0.2 1" />
      </material>
    </visual>
    <collision>
     <origin
        xyz="0 0 0"
        rpy="0 0 0" />
      <geometry>
        <mesh
          filename="./meshes/right_wrist_yaw_link.STL" />
      </geometry>
    </collision>
  </link>
  <joint
    name="right_wrist_yaw_joint"
    type="revolute">
    <origin
      xyz="0.0570718974336895 0 0"
      rpy="0 0 0" />
    <parent
      link="right_wrist_pitch_link" />
    <child
      link="right_wrist_yaw_link" />
    <axis
      xyz="0 0 1" />
    <limit
      lower="-1.5707963267948966"
      upper="1.5707963267948966"
      effort="6.5"
      velocity="20.94395102393" />
  </joint>



 <link
    name="head_link">
    <inertial>
      <origin
        xyz="0.01593002 -0.00003192 0.37229848"
        rpy="0 0 0" />
      <mass
        value="1" />
      <inertia
        ixx="0.00235376"
        ixy="-0.00000032"
        ixz="0.00005105"
        iyy="0.00248661"
        iyz="-0.00000126"
        izz="0.00149044" />
    </inertial>
    <visual>
      <origin
        xyz="0 0 0"
        rpy="0 0 0" />
      <geometry>
        <mesh
          filename="./meshes/head_link.STL" />
      </geometry>
      <material
        name="">
        <color rgba="0.2 0.2 0.2 1" />
      </material>
    </visual>
    <collision>
      <origin
        xyz="0 0 0"
        rpy="0 0 0" />
      <geometry>
        <mesh
          filename="./meshes/head_link.STL" />
      </geometry>
    </collision>
  </link>
  <joint
    name="head_joint"
    type="fixed">
    <origin
      xyz="0 0 0"
      rpy="0 0 0" />
    <parent
      link="torso_link" />
    <child
      link="head_link" />
    <axis
      xyz="0 0 0" />
  </joint>


</robot>
